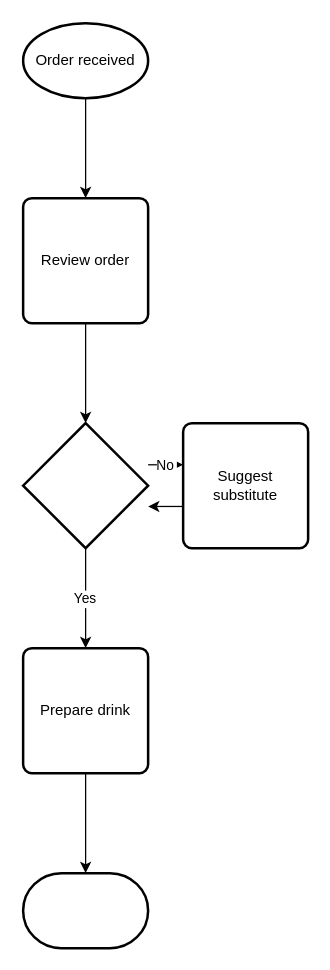
Some shapes in this 330 by 970 pixel diagram are drawn without their labels. Each missing label, with the centre of its shape:
Ingredients available?: point (85, 485)
Serve order: point (85, 910)
